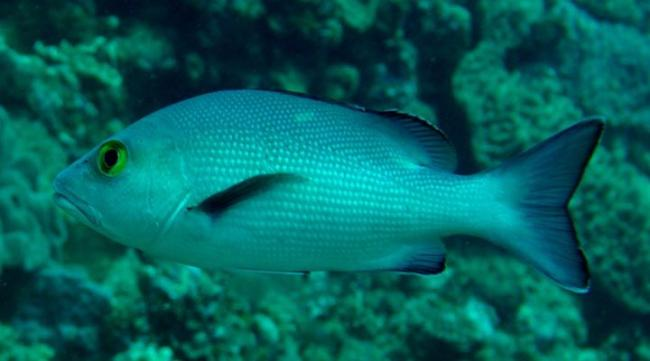fish: (52, 89, 603, 294)
